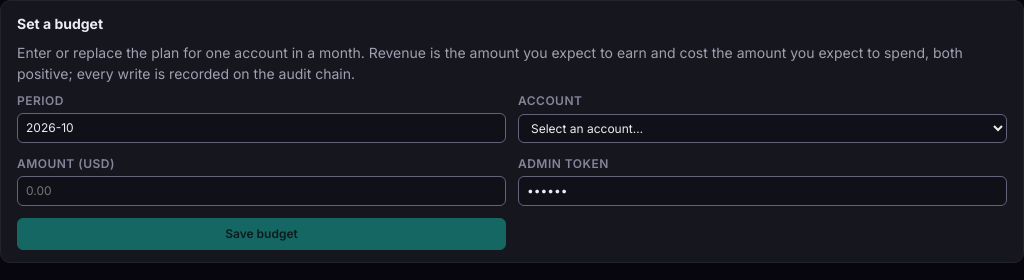
Test: BudgetEntry (T-L4-005) › keeps the button disabled for an unusable amount or a malformed period
Select "6100 — Software & subscriptions" in the dropdown with test id "budget-account" at (762, 128), box [518, 114, 1007, 143]
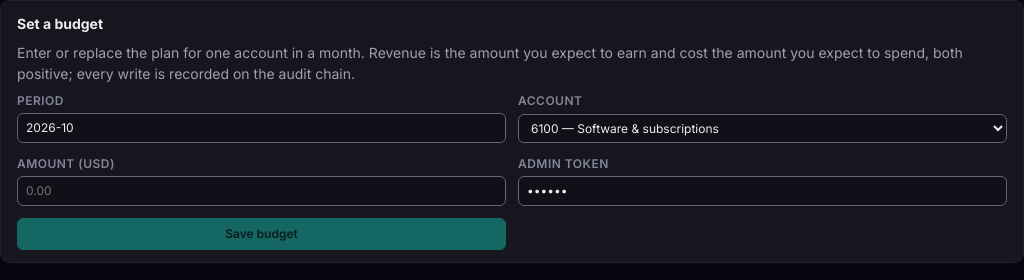
Type "1.234" into the field with test id "budget-amount" at (262, 191), box [17, 176, 506, 206]
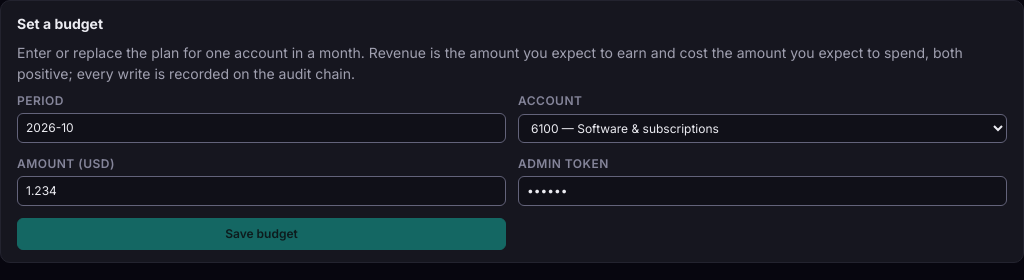
Expected: the button with test id "budget-save" is disabled, [17, 218, 506, 250]
Select "6100 — Software & subscriptions" in the dropdown with test id "budget-account" at (762, 128), box [518, 114, 1007, 143]
Replace the text in the field with test id "budget-amount" with "180.00" at (262, 191), box [17, 176, 506, 206]
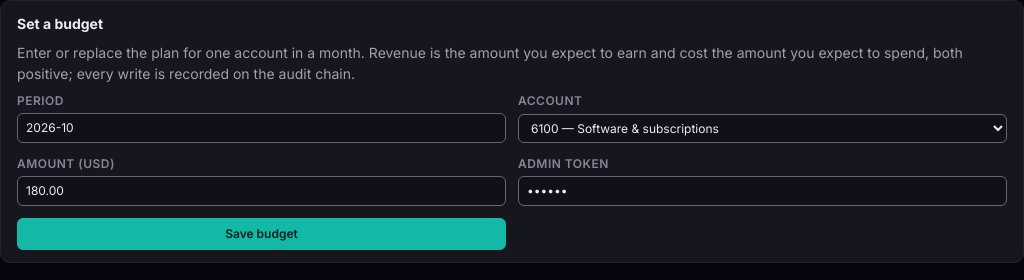
Result: the button with test id "budget-save" is enabled at [17, 218, 506, 250]
Replace the text in the field with test id "budget-period" with "2026-13" at (262, 128), box [17, 113, 506, 143]
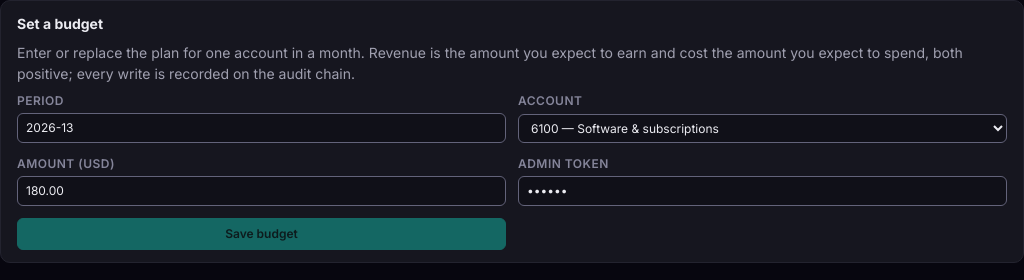
Result: the button with test id "budget-save" is disabled at [17, 218, 506, 250]
